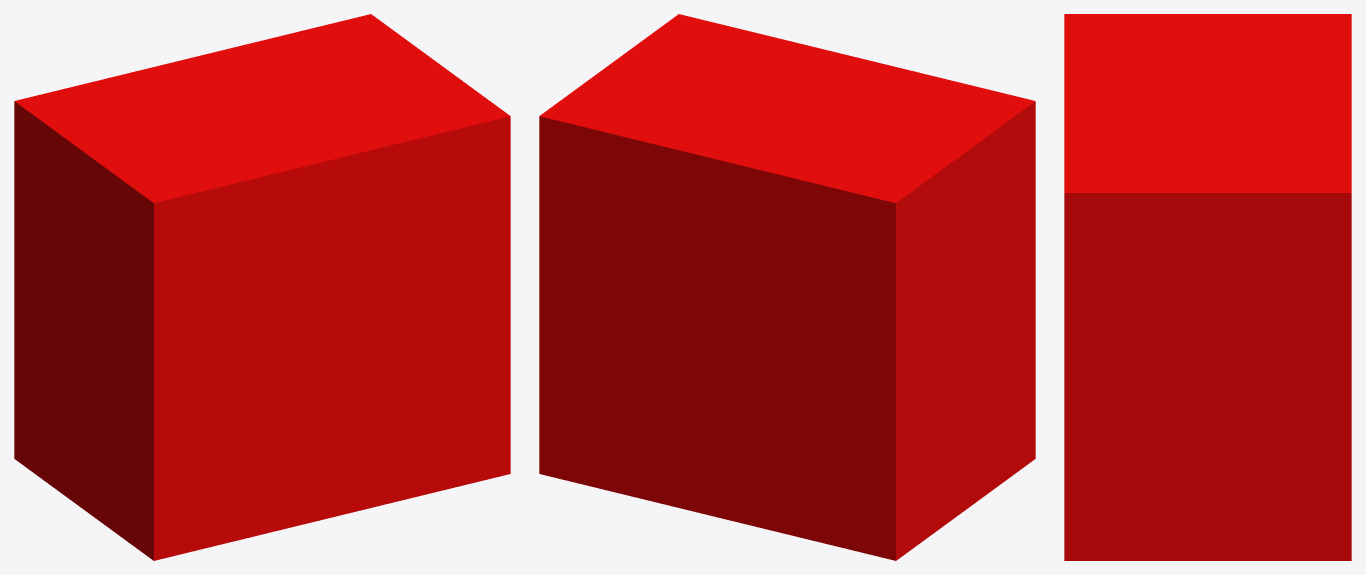
File: cerv2sm_col.dae
The picture shows the model from 3 angles, left to right: view 1: azimuth 30°, elevation 25°; view 2: azimuth 150°, elevation 25°; view 3: azimuth 270°, elevation 25°; orthographic projection. The views are drawn at different scales.
Visible parts, largest first — view 1: node0; view 2: node0; view 3: node0.
Boxes of the visible parts, x1,y1,x2,y2 form: node0: (14, 14, 510, 560); node0: (539, 14, 1035, 560); node0: (1064, 14, 1351, 560).
Size of the model in its own units: 0.0581 by 0.0557 by 0.0394.
